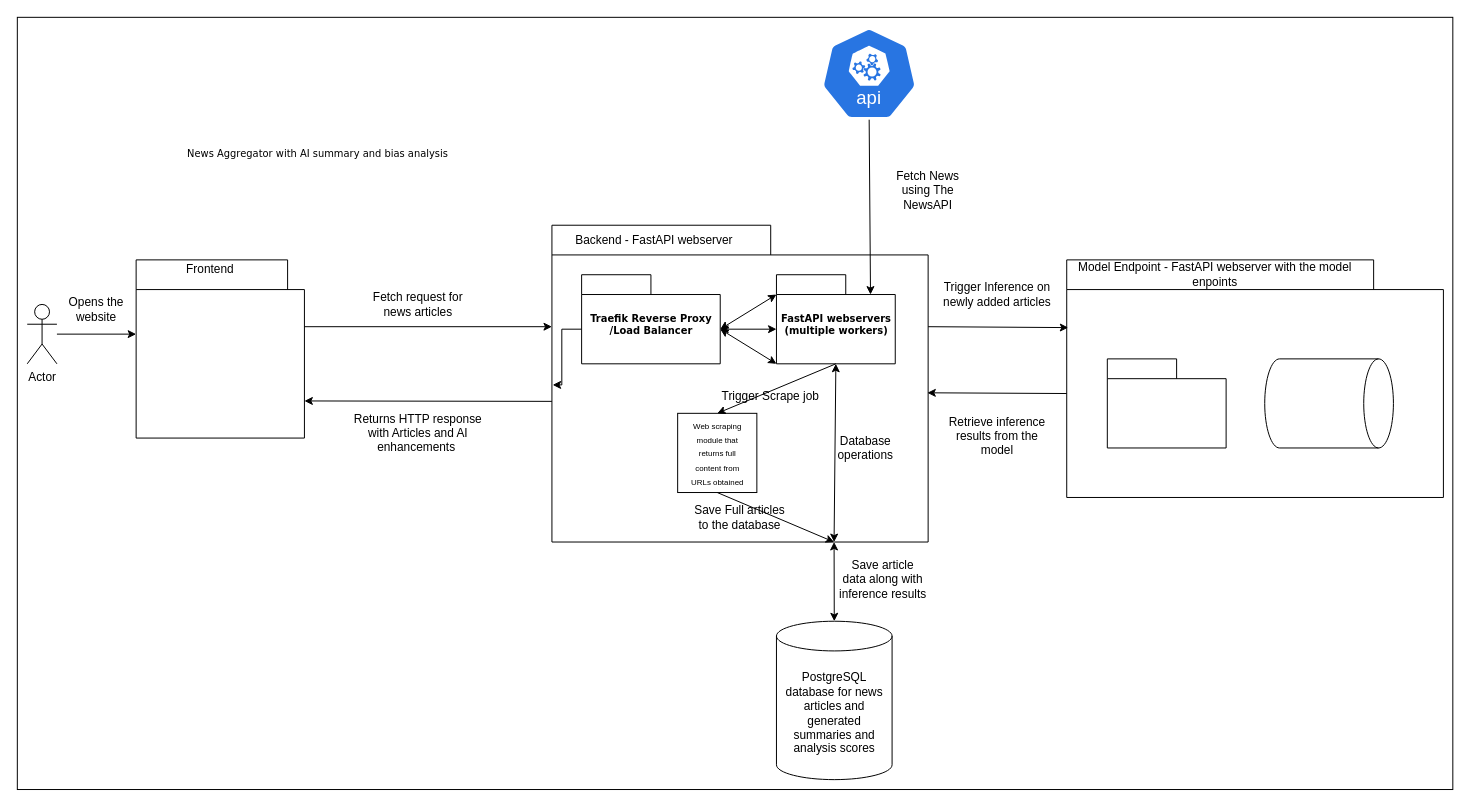
The diagram is 1470 pixels wide and 807 high, and some of its shapes have lost their labels. The box of each missing label's shape, as (x1, y1, x2, y2) in pixels:
FastAPI webserver: (1106, 358, 1226, 448)
Locally downloaded model artifacts: (1264, 358, 1393, 448)
React Vite App - Static Website: (135, 259, 304, 438)
